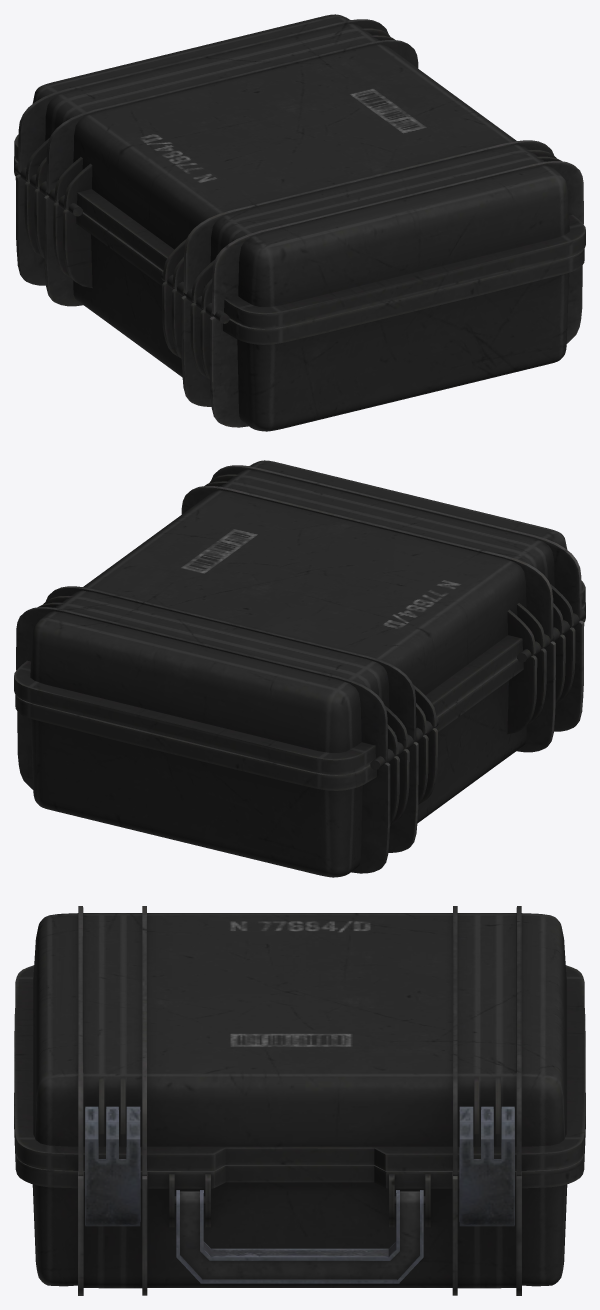
The model's file is case_mini.glb.
3 views of the same model, one above another, from view 1: azimuth 30°, elevation 25°; view 2: azimuth 150°, elevation 25°; view 3: azimuth 270°, elevation 25° (orthographic). The views are drawn at different scales.
Parts seen in each view (by area): view 1: lid, body; view 2: lid, body; view 3: lid, body.
Boxes of the visible parts, x1=… form: lid: x1=14, y1=14, x2=585, y2=328; body: x1=14, y1=156, x2=584, y2=431; lid: x1=14, y1=460, x2=585, y2=774; body: x1=15, y1=602, x2=585, y2=877; lid: x1=15, y1=906, x2=584, y2=1226; body: x1=14, y1=1008, x2=585, y2=1295.
Bounding box in the file's own units: 0.4977 × 0.2456 × 0.5848.
Materials: 1 (1 with a texture image).
